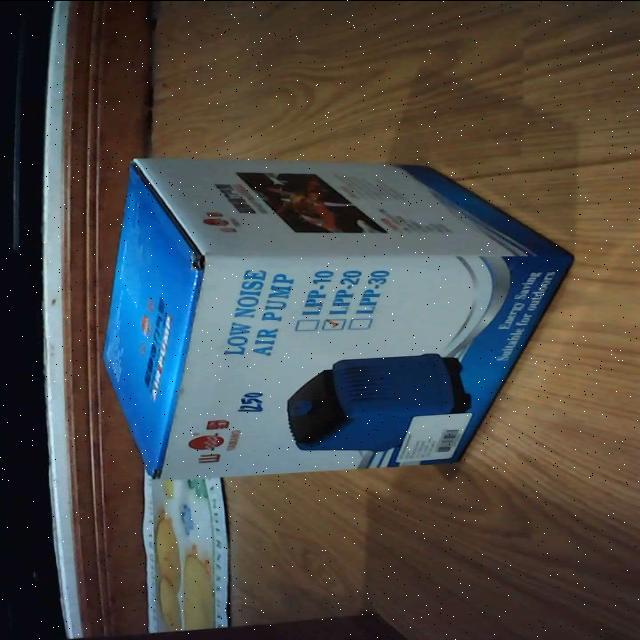YAMANO_LPP_20: (76, 145, 586, 483)
